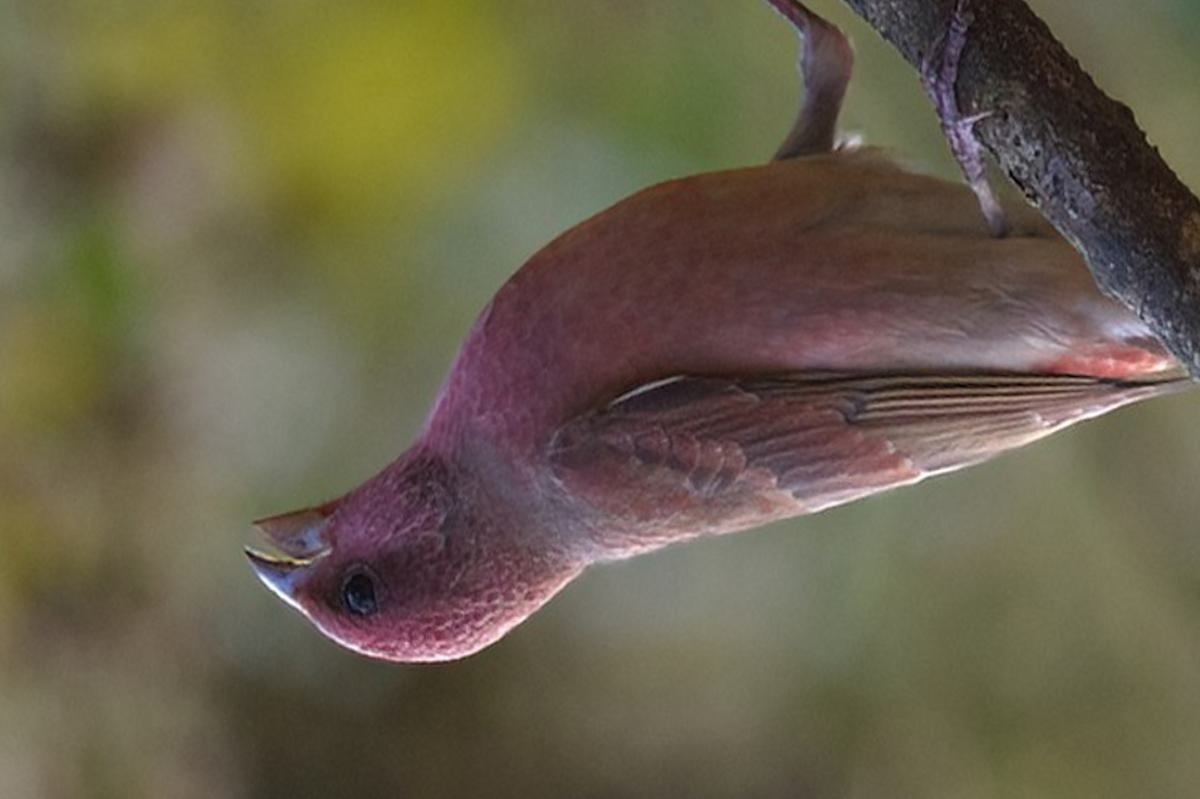rosefinch: (207, 166, 1154, 675)
